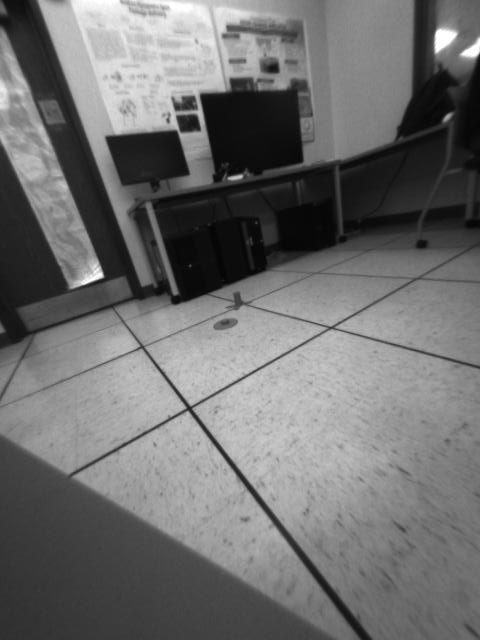X: (226, 291, 252, 311)
